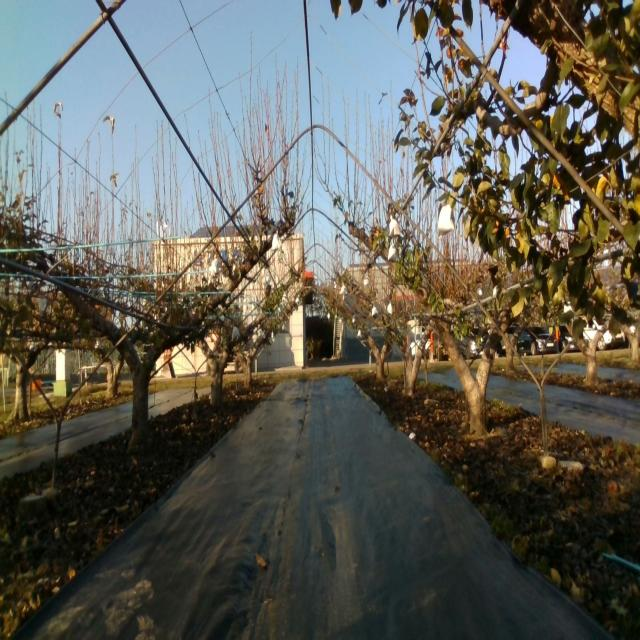pearbags: (437, 205, 455, 238), (210, 255, 222, 279), (387, 240, 400, 262), (388, 215, 400, 238), (271, 230, 282, 251)
